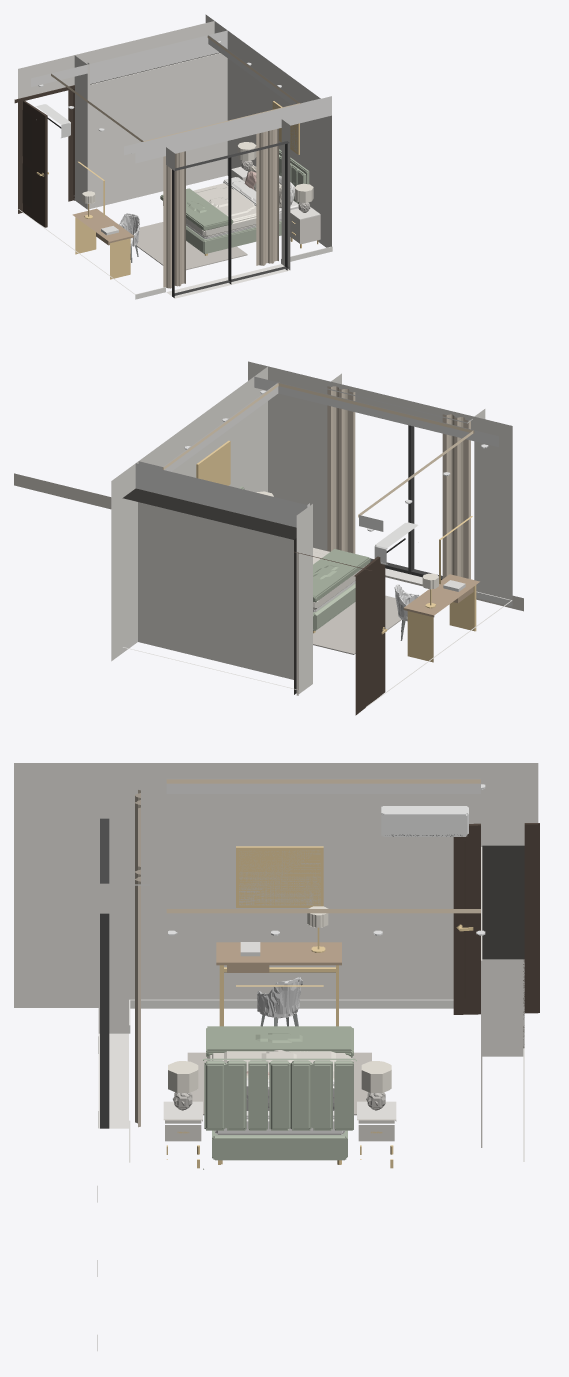
File: ROOM3.glb
The picture shows the model from 3 angles, top to bottom: view 1: azimuth 30°, elevation 25°; view 2: azimuth 150°, elevation 25°; view 3: azimuth 270°, elevation 25°; orthographic projection. The views are drawn at different scales.
Parts seen in each view (by area): view 1: WEB_ROOM3; view 2: WEB_ROOM3; view 3: WEB_ROOM3.
Part boxes in pixels (x1,y1,x2,y2): WEB_ROOM3: (14, 14, 332, 299); WEB_ROOM3: (14, 361, 523, 715); WEB_ROOM3: (14, 763, 539, 1350).
Bounding box in the file's own units: 8.36 × 3.2 × 5.59.
